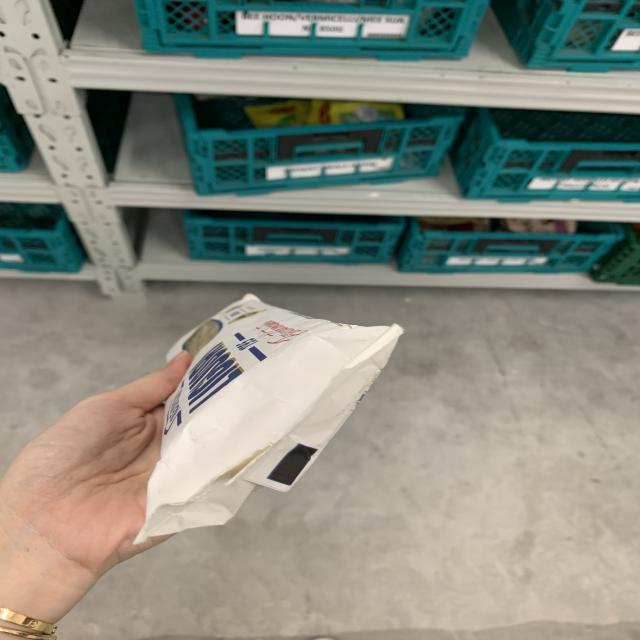object_name: (168, 306, 401, 504)
